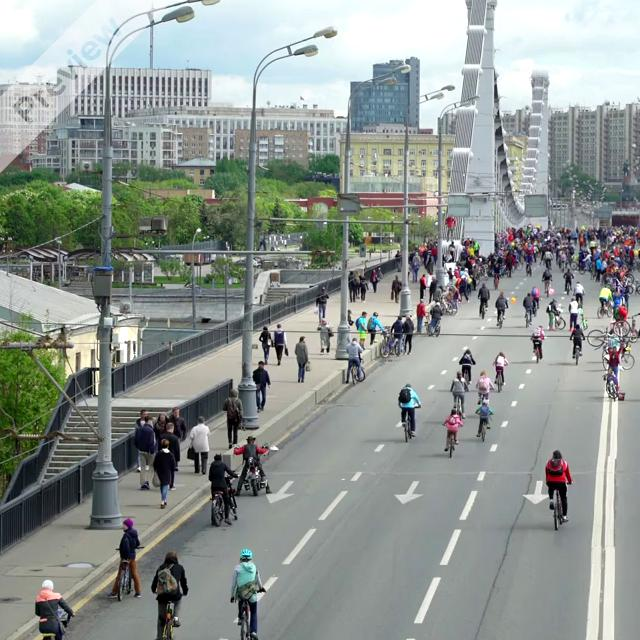bicycle: (234, 589, 265, 639), (112, 546, 140, 601), (210, 476, 237, 526), (156, 593, 183, 639), (548, 481, 571, 530), (398, 404, 419, 442), (442, 421, 462, 458), (601, 366, 620, 400), (475, 409, 493, 442), (348, 356, 365, 384), (451, 391, 466, 419), (571, 337, 584, 365), (531, 337, 544, 363), (494, 367, 505, 393), (522, 306, 535, 328), (478, 296, 489, 321), (495, 307, 506, 328)
